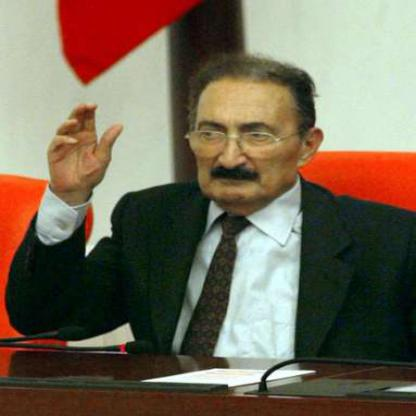face: (186, 61, 306, 208)
